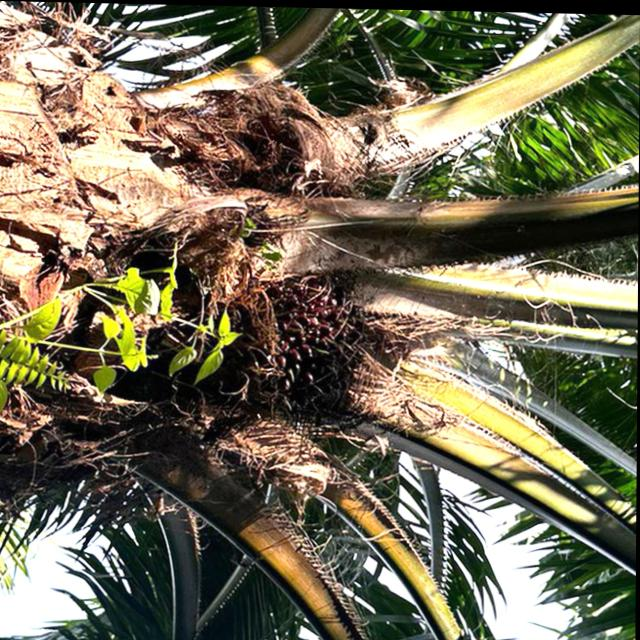unripe: (236, 263, 373, 435)
